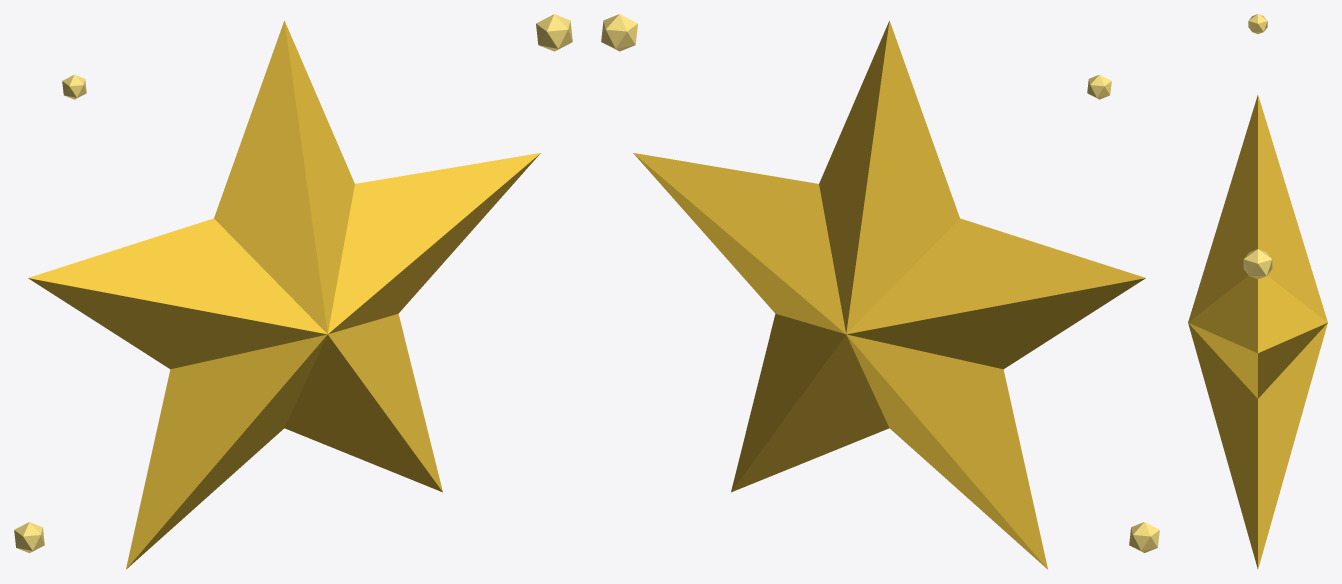
The model's file is Star.fbx.
3 renders of one model, left to right at view 1: azimuth 30°, elevation 25°; view 2: azimuth 150°, elevation 25°; view 3: azimuth 270°, elevation 25°, orthographic. The views are drawn at different scales.
Visible parts, largest first — view 1: Star; view 2: Star; view 3: Star.
Boxes of the visible parts, x1,y1,x2,y2 form: Star: (14,14,572,569); Star: (601,14,1159,569); Star: (1188,14,1327,568).
Bounding box in the file's own units: 5.55 × 4.88 × 1.5.
1 material, 1 textured.
